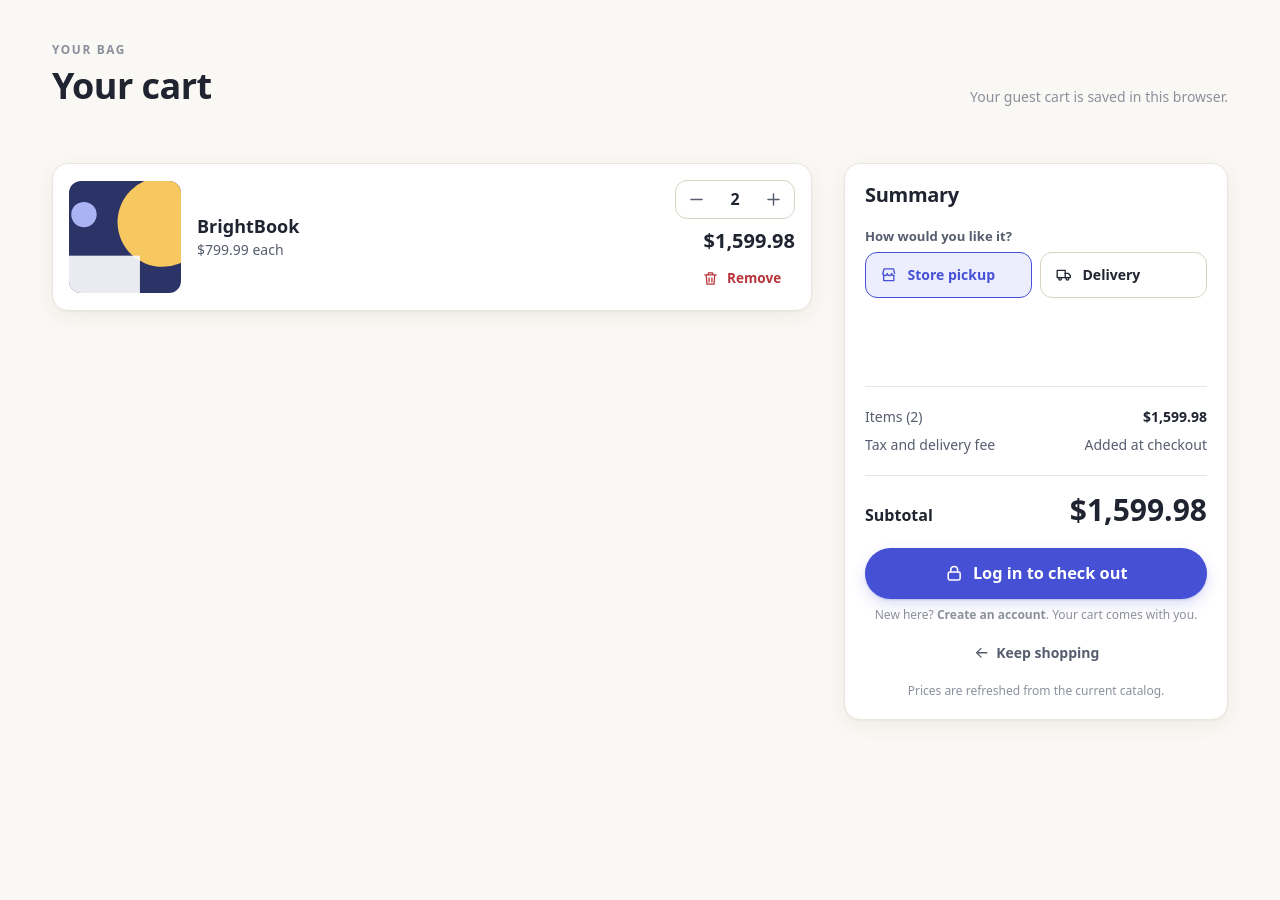
Test: guest cart page › refreshes the current product price and recalculates subtotal on quantity updates
Expected: the link "BrightBook" is shown, [197, 214, 299, 238]
Expected: the text with test id "cart-subtotal" reads "$1,599.98", [1143, 407, 1207, 426]
Click the button named "Increase quantity for BrightBook" at (774, 199), box [753, 181, 794, 218]
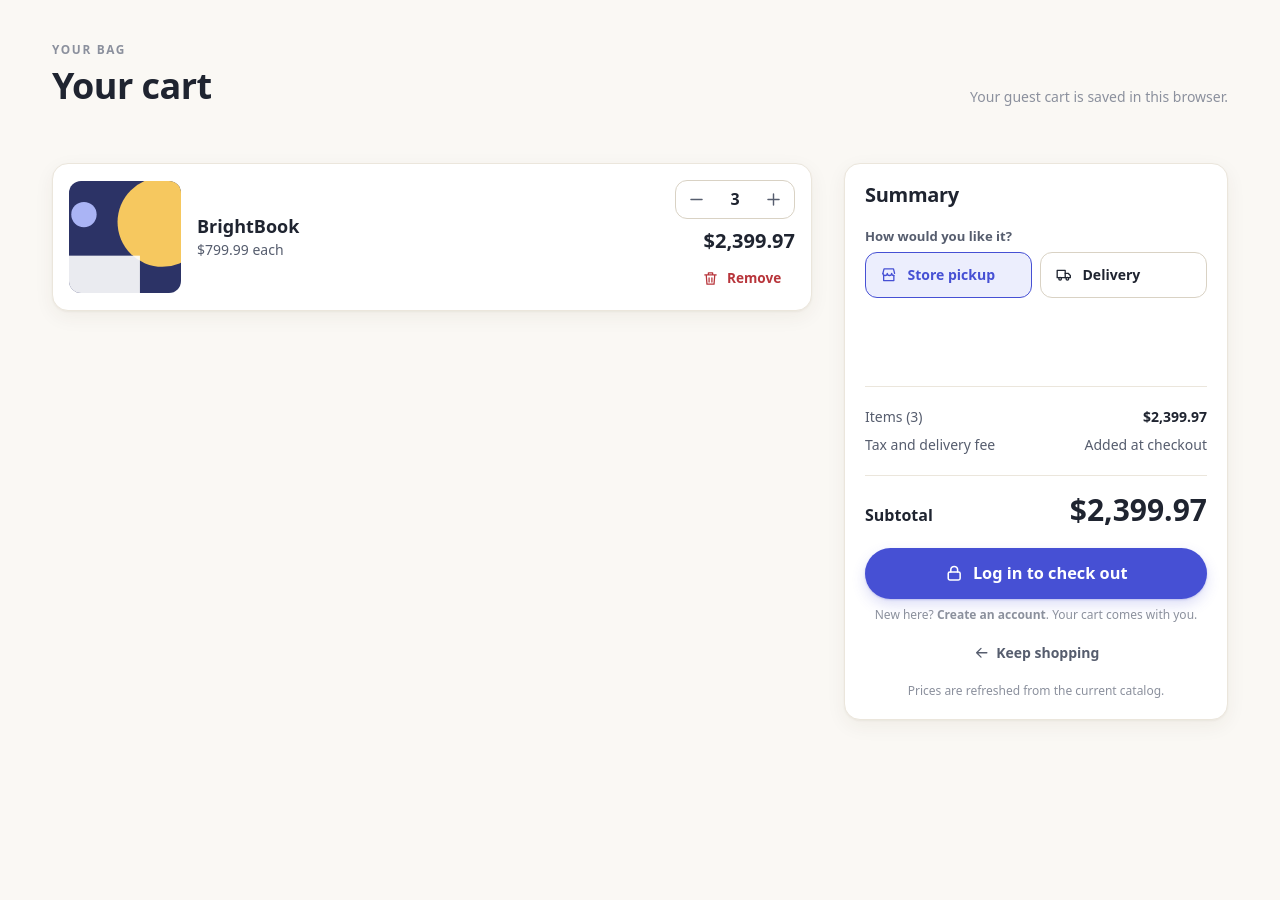
Result: the text "3" is shown at [730, 188, 740, 210]
Result: the text with test id "cart-subtotal" reads "$2,399.97" at [1143, 407, 1207, 426]
Click the button "Remove" at (742, 279), box [688, 263, 795, 294]
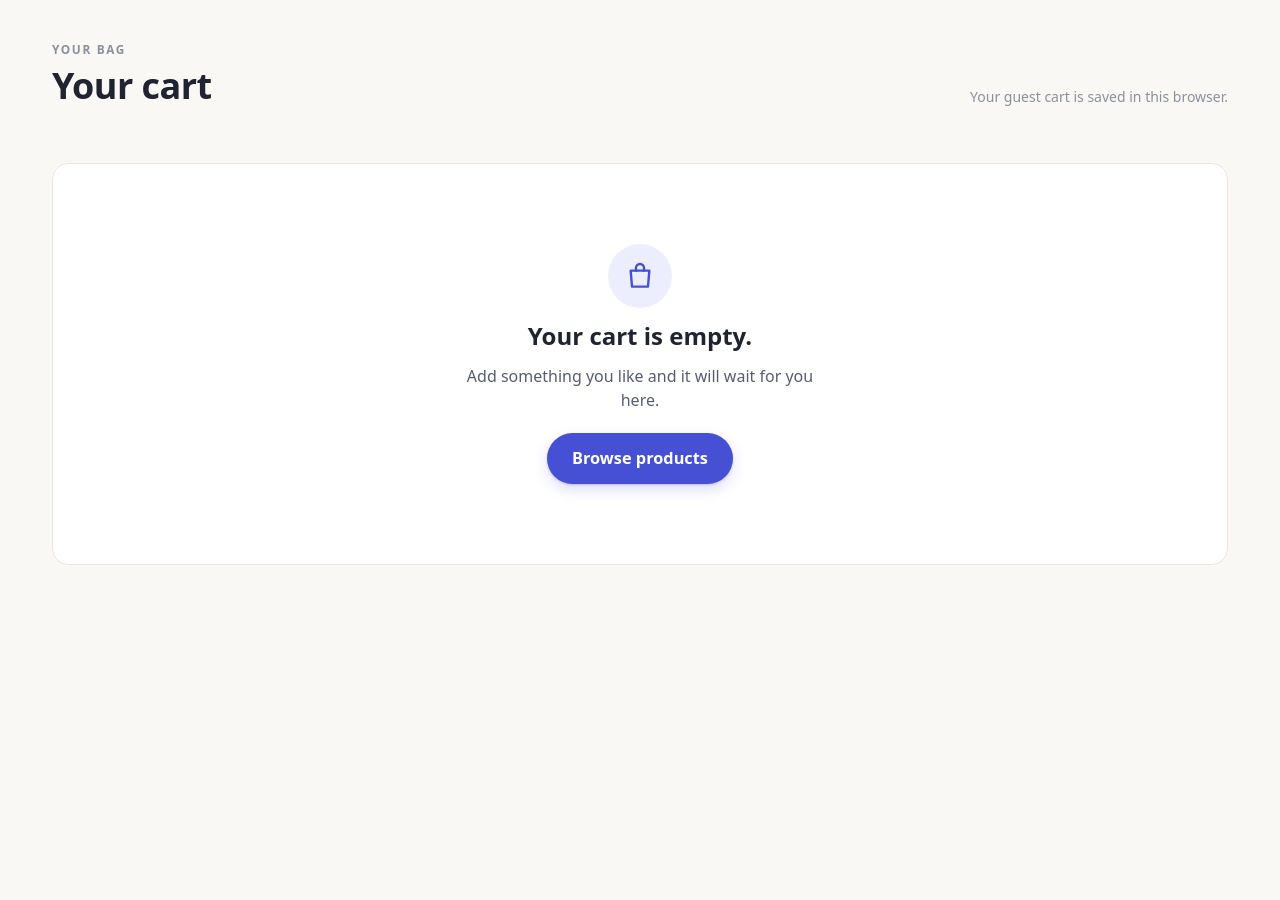
Result: the text "Your cart is empty." is shown at [528, 320, 752, 352]
